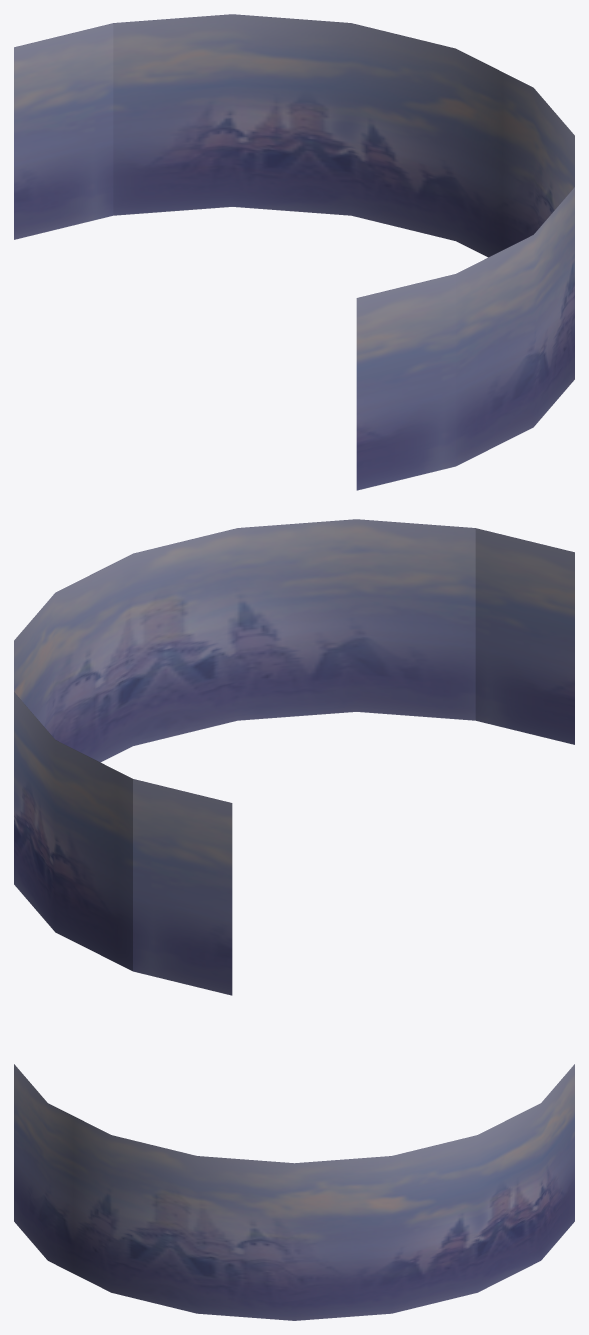
File: jjc_sky.FBX
3 renders of one model, top to bottom at view 1: azimuth 30°, elevation 25°; view 2: azimuth 150°, elevation 25°; view 3: azimuth 270°, elevation 25°, orthographic. The views are drawn at different scales.
Parts seen in each view (by area): view 1: jjc_sky; view 2: jjc_sky; view 3: jjc_sky.
Part boxes in pixels (x1,y1,x2,y2): jjc_sky: [14, 14, 574, 490]; jjc_sky: [14, 519, 574, 995]; jjc_sky: [14, 1064, 574, 1320].
Size of the model in its own units: 5274 by 2787 by 8981.
